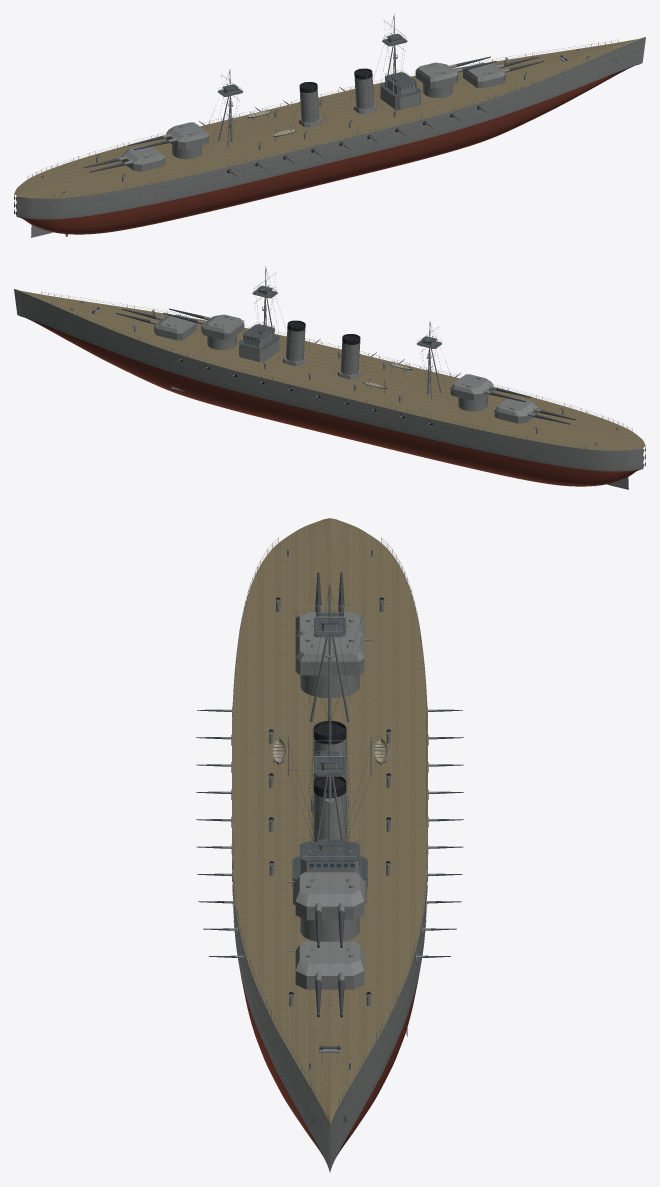
Rendered from nagato.glb.
3 renders of one model, top to bottom at view 1: azimuth 30°, elevation 25°; view 2: azimuth 150°, elevation 25°; view 3: azimuth 270°, elevation 25°, orthographic. The views are drawn at different scales.
Parts seen in each view (by area): view 1: Nagato class; view 2: Nagato class; view 3: Nagato class.
Boxes of the visible parts, x1,y1,x2,y2 form: Nagato class: [14, 14, 645, 237]; Nagato class: [14, 266, 645, 489]; Nagato class: [196, 518, 463, 1172].
Size of the model in its own units: 216 by 44.89 by 39.75.
Materials: 9 (8 with a texture image).
